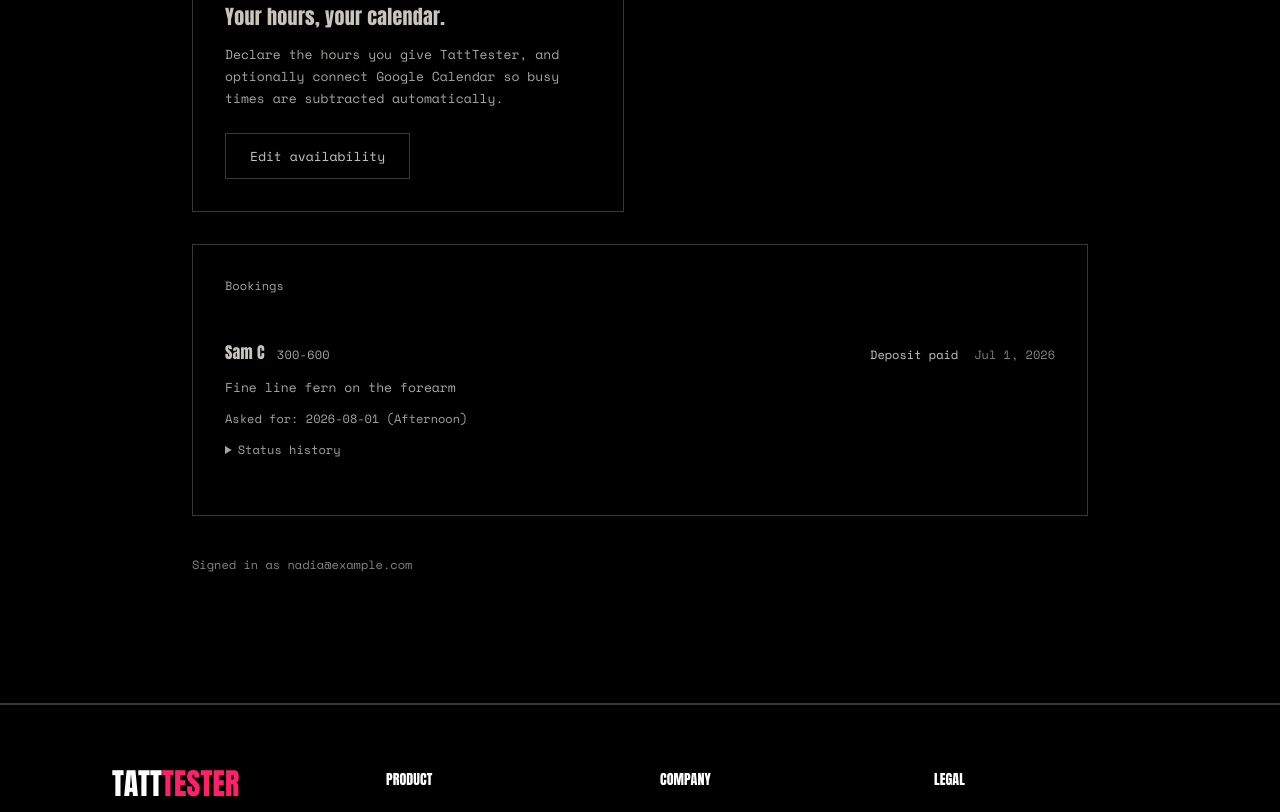
Test: console page › claimed artist: shows bookings with status and expandable status history
(page scrolled)
Expected: the text "Sam C" is shown, [225,340,265,364]
Expected: the text "Deposit paid" is shown, [870,346,958,364]
// The orphaned audit trail (TAT-24), finally on a page.
Click the heading "Status history" at (289, 449), box [238,441,340,458]
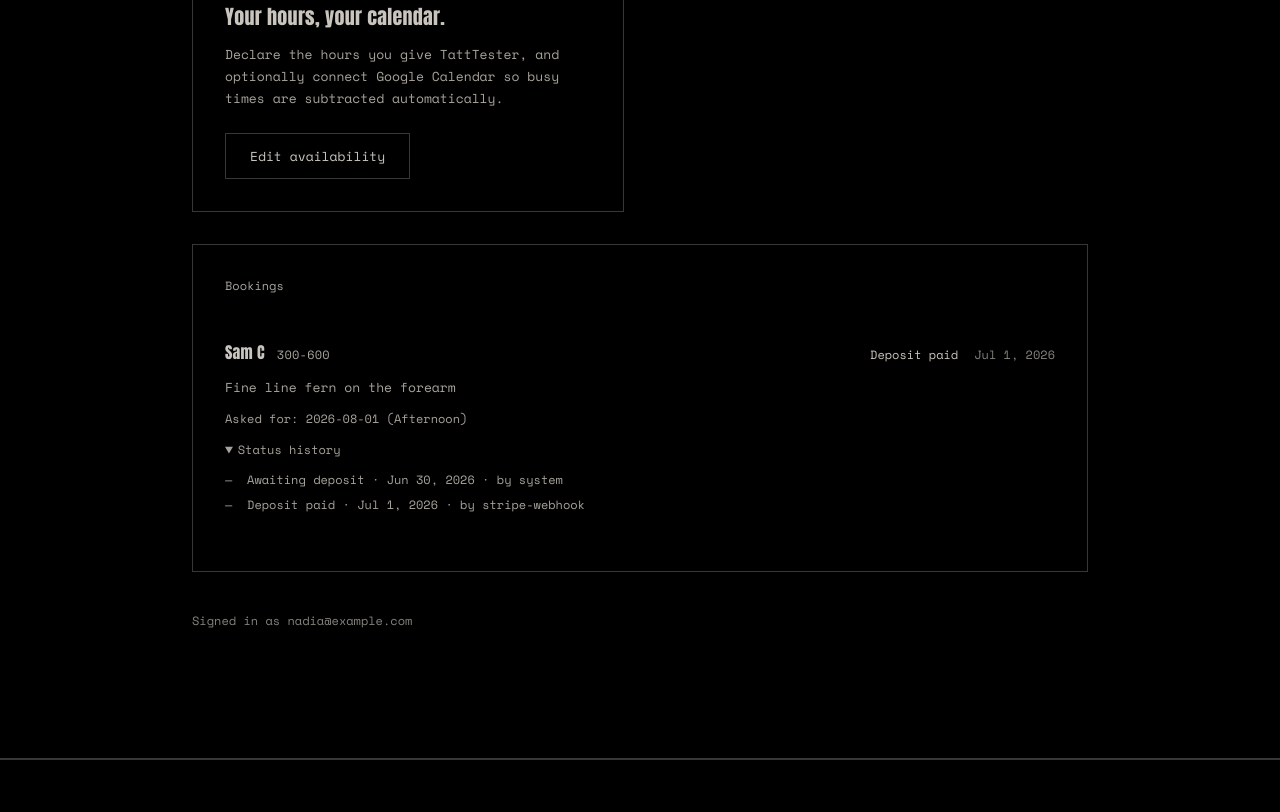
Now the list item "— Deposit paid · Jul 1, 2026 · by stripe-webhook" is shown, box [225,496,585,513]
Now the list item "— Awaiting deposit · Jun 30, 2026 · by system" is shown, box [225,472,563,488]
